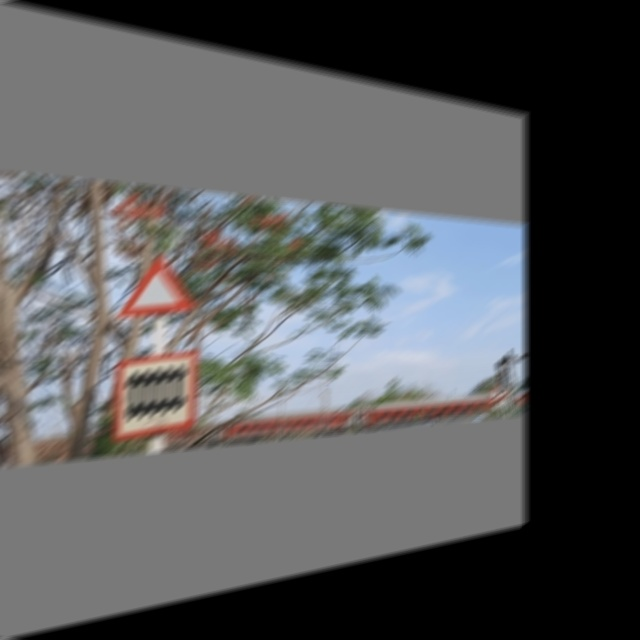Guarded_Level_Crossing: (112, 343, 202, 437)
